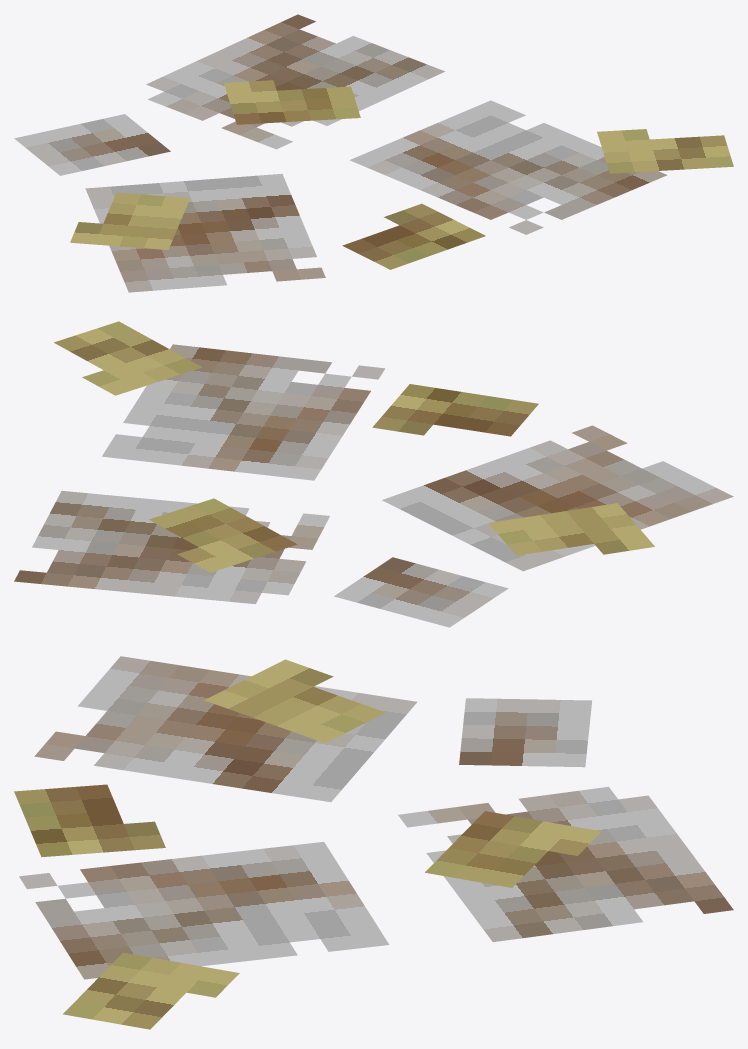
Rendered from papersA.fbx.
3 renders of one model, top to bottom at view 1: azimuth 30°, elevation 25°; view 2: azimuth 150°, elevation 25°; view 3: azimuth 270°, elevation 25°, orthographic. The views are drawn at different scales.
Parts seen in each view (by area): view 1: plane, plane_1, plane_2, plane_3, plane_5, plane_7, plane_4, plane_6; view 2: plane, plane_1, plane_2, plane_3, plane_6, plane_5, plane_7, plane_4; view 3: plane, plane_1, plane_2, plane_3, plane_4, plane_6, plane_5, plane_7.
Part boxes in pixels (box(x1,y1,x2,y2)): plane: box(349, 100, 667, 234); plane_1: box(85, 174, 325, 292); plane_2: box(146, 14, 444, 149); plane_3: box(14, 114, 170, 175); plane_5: box(224, 80, 360, 124); plane_7: box(597, 129, 733, 173); plane_4: box(342, 203, 485, 269); plane_6: box(70, 192, 189, 249); plane: box(102, 344, 385, 480); plane_1: box(382, 425, 733, 571); plane_2: box(14, 491, 329, 604); plane_3: box(334, 557, 508, 627); plane_6: box(488, 503, 654, 555); plane_5: box(149, 498, 297, 572); plane_7: box(54, 321, 202, 395); plane_4: box(372, 384, 538, 436); plane: box(19, 842, 389, 979); plane_1: box(34, 656, 416, 802); plane_2: box(398, 786, 733, 941); plane_3: box(459, 698, 591, 767); plane_4: box(14, 784, 165, 857); plane_6: box(204, 659, 385, 742); plane_5: box(425, 811, 601, 887); plane_7: box(63, 952, 239, 1029).
Bounding box in the file's own units: 178 × 0.1562 × 142.
1 material, 1 textured.
